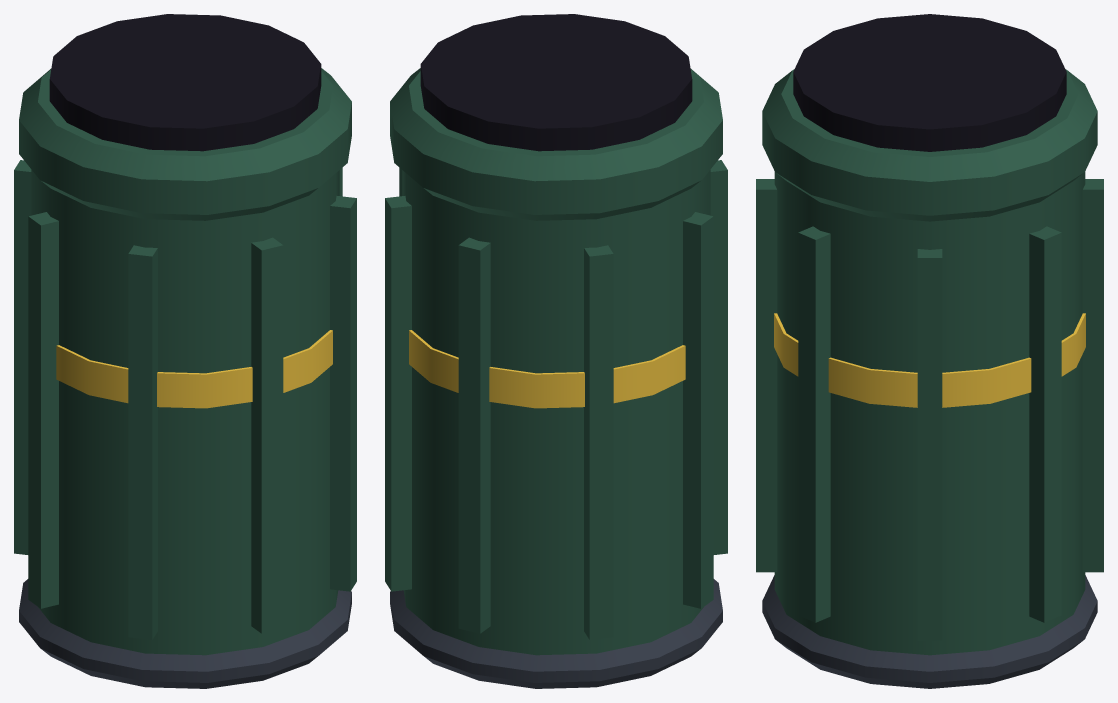
The model's file is litter_bin.glb.
3 views of the same model, side by side, from view 1: azimuth 30°, elevation 25°; view 2: azimuth 150°, elevation 25°; view 3: azimuth 270°, elevation 25° (orthographic).
Parts seen in each view (by area): view 1: litter_bin; view 2: litter_bin; view 3: litter_bin.
Boxes of the visible parts, x1=… form: litter_bin: x1=14, y1=14, x2=356, y2=688; litter_bin: x1=385, y1=14, x2=727, y2=688; litter_bin: x1=756, y1=14, x2=1103, y2=688.
Bounding box in the file's own units: 0.56 × 0.98 × 0.56.
Materials: 1 (1 with a texture image).
